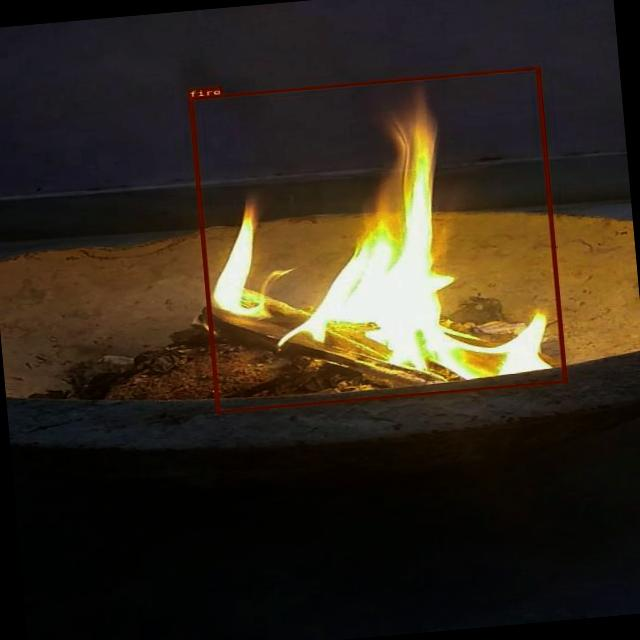fire: (188, 66, 566, 412)
